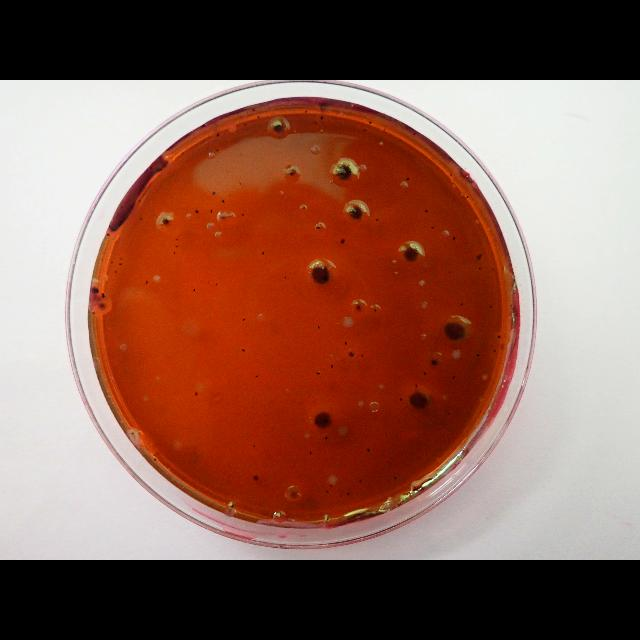colony: (310, 262, 332, 288), (442, 321, 468, 342), (332, 160, 356, 182), (408, 392, 430, 411), (402, 243, 421, 263), (347, 204, 367, 222), (314, 412, 332, 428), (272, 120, 284, 134), (429, 358, 438, 367), (98, 300, 106, 310), (161, 217, 169, 226), (92, 286, 100, 294), (348, 351, 356, 357), (289, 168, 295, 176), (424, 208, 430, 214), (476, 254, 482, 260), (355, 304, 361, 310), (340, 238, 346, 244), (194, 208, 200, 214), (252, 475, 258, 481), (220, 214, 226, 220), (406, 176, 410, 182), (221, 198, 225, 204), (106, 232, 110, 238), (242, 123, 248, 127), (120, 205, 124, 211), (304, 110, 308, 114), (314, 121, 318, 125), (368, 120, 372, 124), (412, 132, 416, 136), (452, 236, 456, 240), (478, 266, 482, 270), (374, 308, 378, 312), (375, 218, 379, 222), (302, 206, 306, 210), (241, 213, 245, 217), (210, 209, 214, 213), (175, 245, 179, 249), (138, 199, 142, 203), (118, 262, 122, 266), (110, 260, 114, 264), (131, 432, 135, 436), (447, 412, 451, 416), (452, 375, 456, 379), (344, 341, 348, 345), (414, 384, 418, 388), (195, 392, 199, 396), (242, 349, 246, 353), (216, 133, 220, 137), (454, 347, 458, 351), (423, 372, 427, 376), (314, 419, 318, 423), (321, 115, 324, 119), (466, 195, 469, 199), (431, 227, 435, 230), (172, 251, 175, 255), (102, 292, 105, 296), (394, 476, 398, 479), (476, 353, 479, 357), (331, 364, 334, 368), (366, 448, 369, 452), (324, 436, 328, 439), (252, 444, 255, 448), (212, 191, 215, 195), (256, 115, 260, 118), (364, 128, 366, 132), (450, 173, 452, 177), (262, 252, 264, 256), (318, 226, 320, 230), (316, 226, 318, 230), (140, 216, 142, 220), (146, 280, 148, 284), (92, 312, 96, 314), (232, 504, 234, 508), (340, 494, 342, 498), (461, 302, 463, 306), (362, 354, 364, 358), (215, 282, 217, 286), (194, 288, 196, 292), (239, 181, 241, 185), (102, 296, 105, 298), (326, 518, 329, 520), (346, 492, 349, 494), (242, 318, 245, 320), (319, 416, 321, 419), (480, 254, 482, 256), (492, 268, 494, 270), (176, 239, 178, 241), (120, 258, 122, 260), (115, 270, 117, 272), (154, 458, 156, 460), (330, 484, 332, 486), (326, 490, 328, 492), (359, 480, 361, 482), (494, 350, 496, 352), (498, 336, 500, 338), (490, 306, 492, 308), (449, 271, 451, 273), (284, 277, 286, 279), (318, 326, 320, 328), (318, 372, 320, 374), (316, 372, 318, 374), (400, 398, 402, 400), (310, 452, 312, 454), (216, 149, 218, 151), (182, 152, 184, 154), (328, 492, 328, 492)
